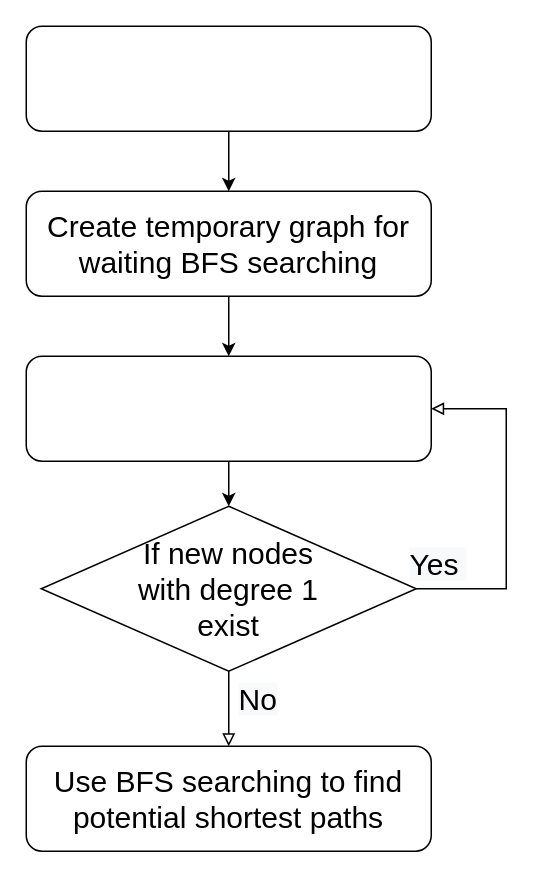
The diagram is 545 pixels wide and 878 high, and some of its shapes have lost their labels. Each missing label, with the centre of its shape:
"Delete nodes with degree 1" belongs at [228,408].
"The degree of nodes is stored during topology creation" belongs at [228,78].
